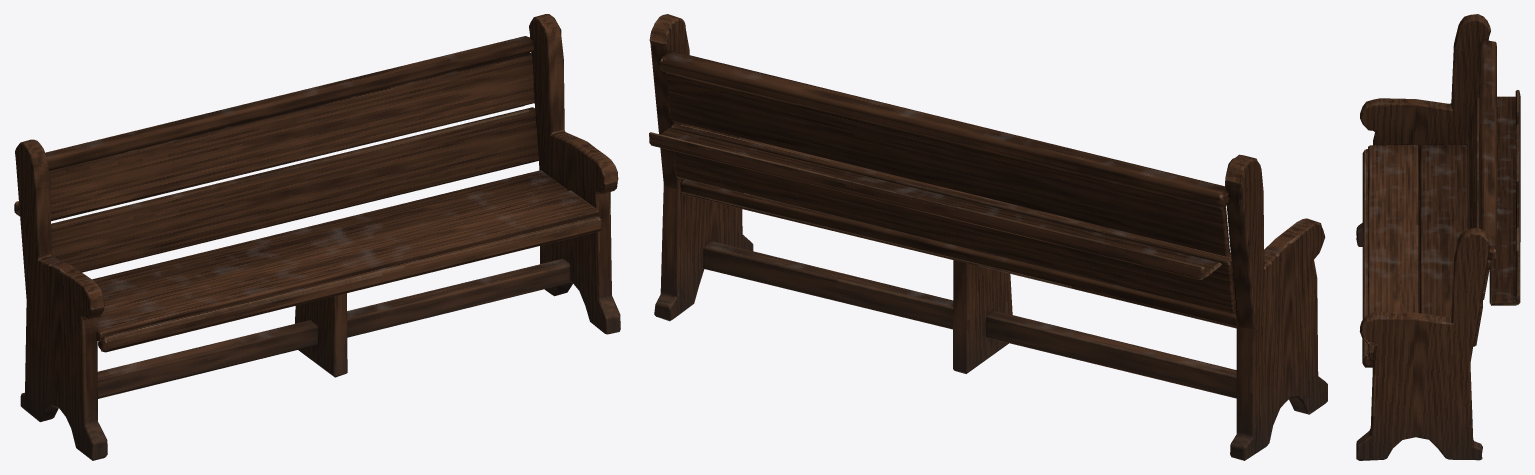
The model's file is pew.glb.
The picture shows the model from 3 angles, left to right: view 1: azimuth 30°, elevation 25°; view 2: azimuth 150°, elevation 25°; view 3: azimuth 270°, elevation 25°; orthographic projection. The views are drawn at different scales.
Parts seen in each view (by area): view 1: Pew; view 2: Pew; view 3: Pew.
Boxes of the visible parts, bbox=[...] form: Pew: bbox=[14, 14, 620, 460]; Pew: bbox=[649, 14, 1327, 460]; Pew: bbox=[1356, 14, 1520, 460].
Bounding box in the file's own units: 2.21 × 1.06 × 0.6942.
1 material, 1 textured.
